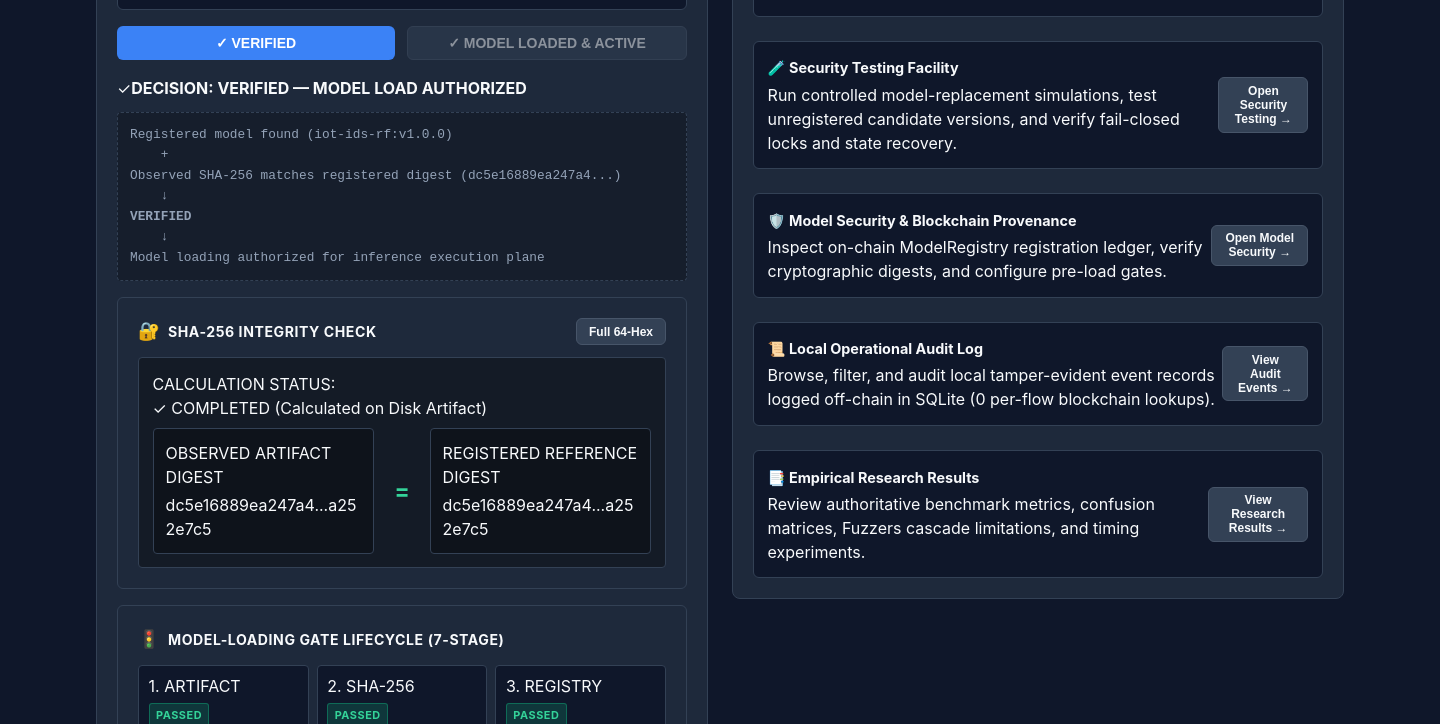
Scenario: Phase 7D.4 Deduplicated Frontend Architecture & Solution Workflow Tests › 5. Security Solution renders cryptographic SHA-256 comparison and hash toggle
The image size is (1440, 724).
(page scrolled)
Expected: the element with test id "solution-crypto-panel" is shown, x1=117 y1=297 x2=687 y2=590
Expected: the text with test id "crypto-observed-hash" shows "dc5e16889ea247a4", x1=166 y1=495 x2=356 y2=539
Toggle full hash
Click the button with test id "crypto-toggle-hash-btn".
click(621, 332)  # box x1=576 y1=318 x2=666 y2=345
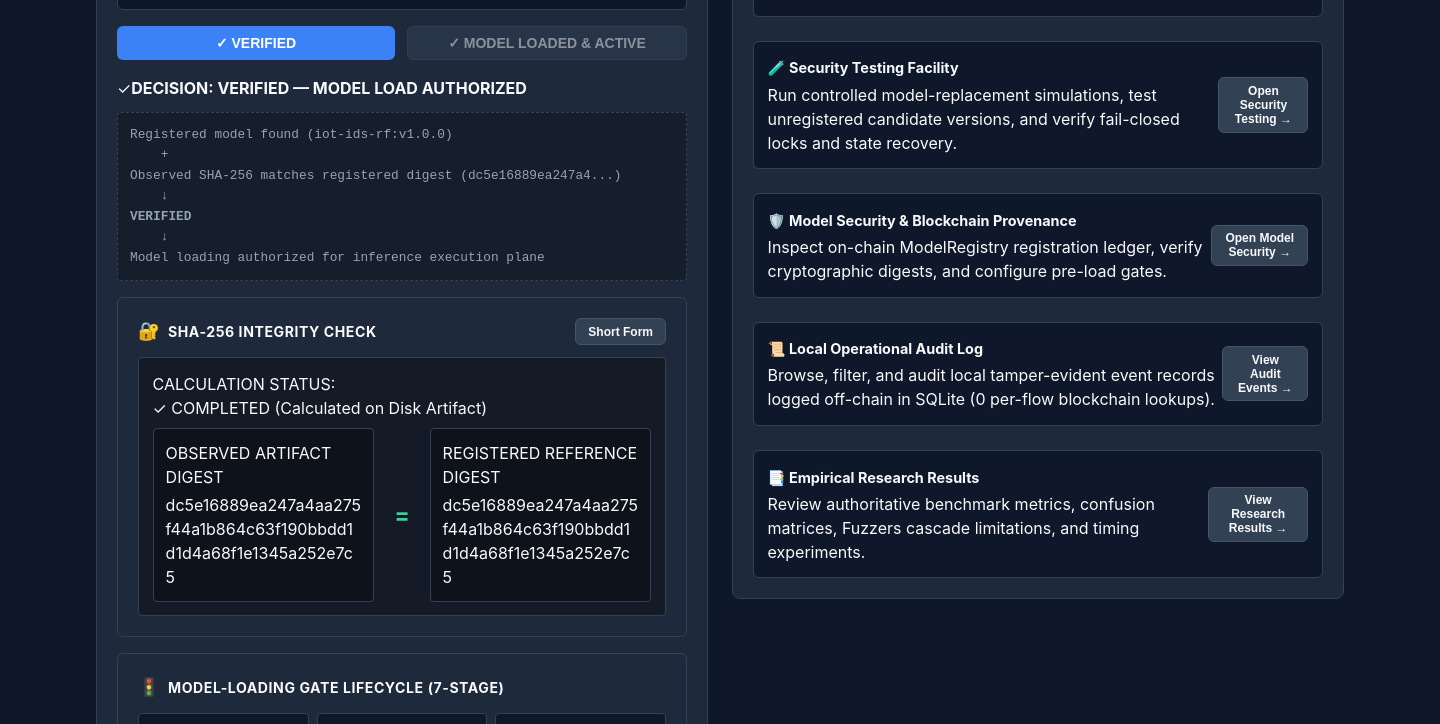
Expected: the text with test id "crypto-observed-hash" reads "dc5e16889ea247a4aa275f44a1b864c63f190bbdd1d1d4a68f1e1345a252e7c5", x1=166 y1=495 x2=361 y2=587
